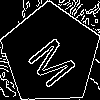M: (25, 29, 85, 90)
